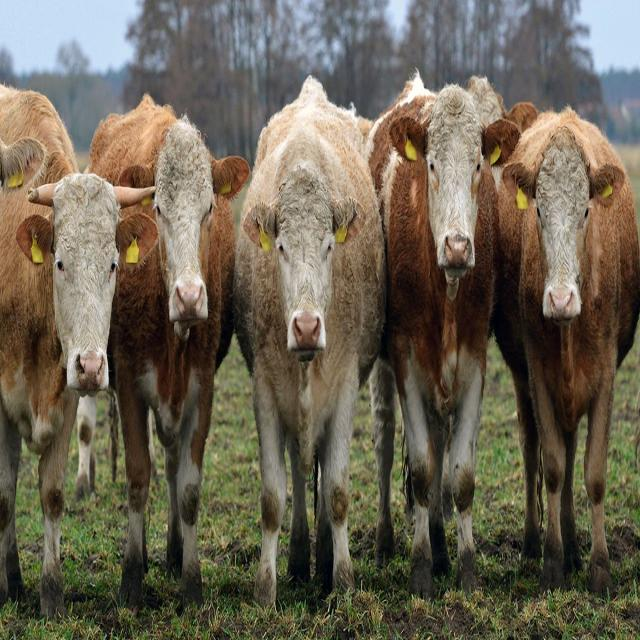cow: (393, 70, 491, 331), (124, 115, 222, 341), (262, 168, 366, 380), (48, 152, 114, 394), (521, 113, 597, 323)
